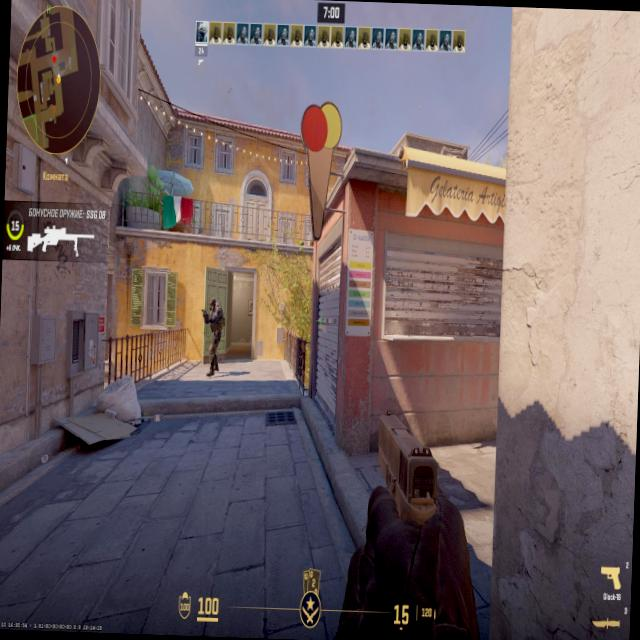CT: (210, 298, 224, 359)
CT_heat: (209, 300, 216, 314)
